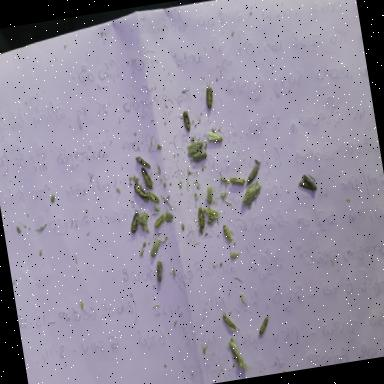pbw: (201, 78, 218, 109), (296, 170, 318, 193), (228, 336, 244, 366), (221, 308, 239, 334), (132, 180, 150, 204), (126, 211, 142, 235), (256, 314, 272, 337), (242, 164, 260, 184), (204, 125, 224, 142), (140, 165, 153, 190), (133, 152, 150, 170), (185, 140, 204, 156), (148, 238, 163, 258), (222, 222, 234, 247), (202, 204, 219, 220), (181, 108, 192, 132), (196, 202, 206, 228), (154, 259, 165, 282), (152, 212, 166, 228), (138, 210, 148, 232), (228, 174, 246, 186), (146, 190, 160, 204), (192, 150, 208, 162), (204, 186, 214, 204), (220, 176, 229, 184)
